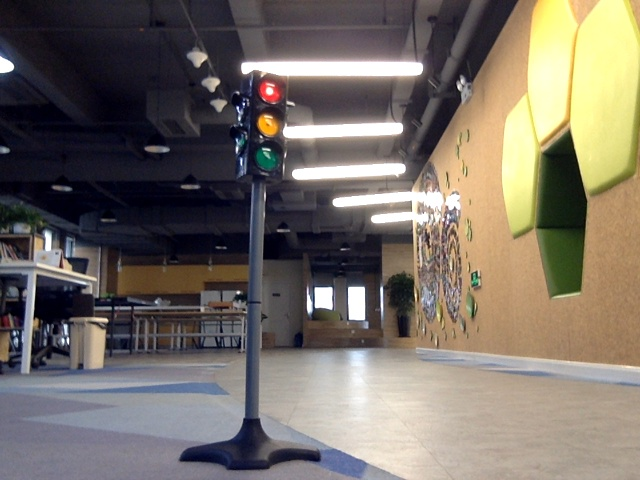red: (247, 70, 284, 172)
